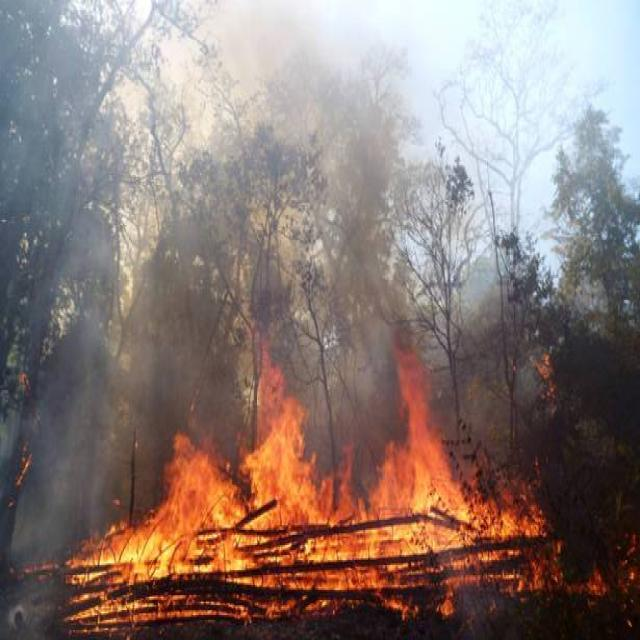Fire: (40, 324, 640, 620)
Smoke: (77, 26, 490, 389)
